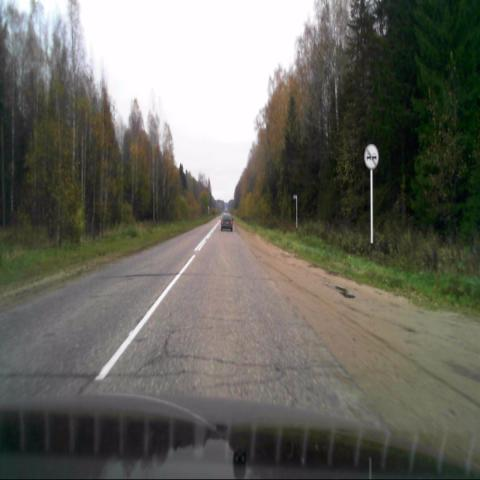3_21: (363, 142, 380, 171)
